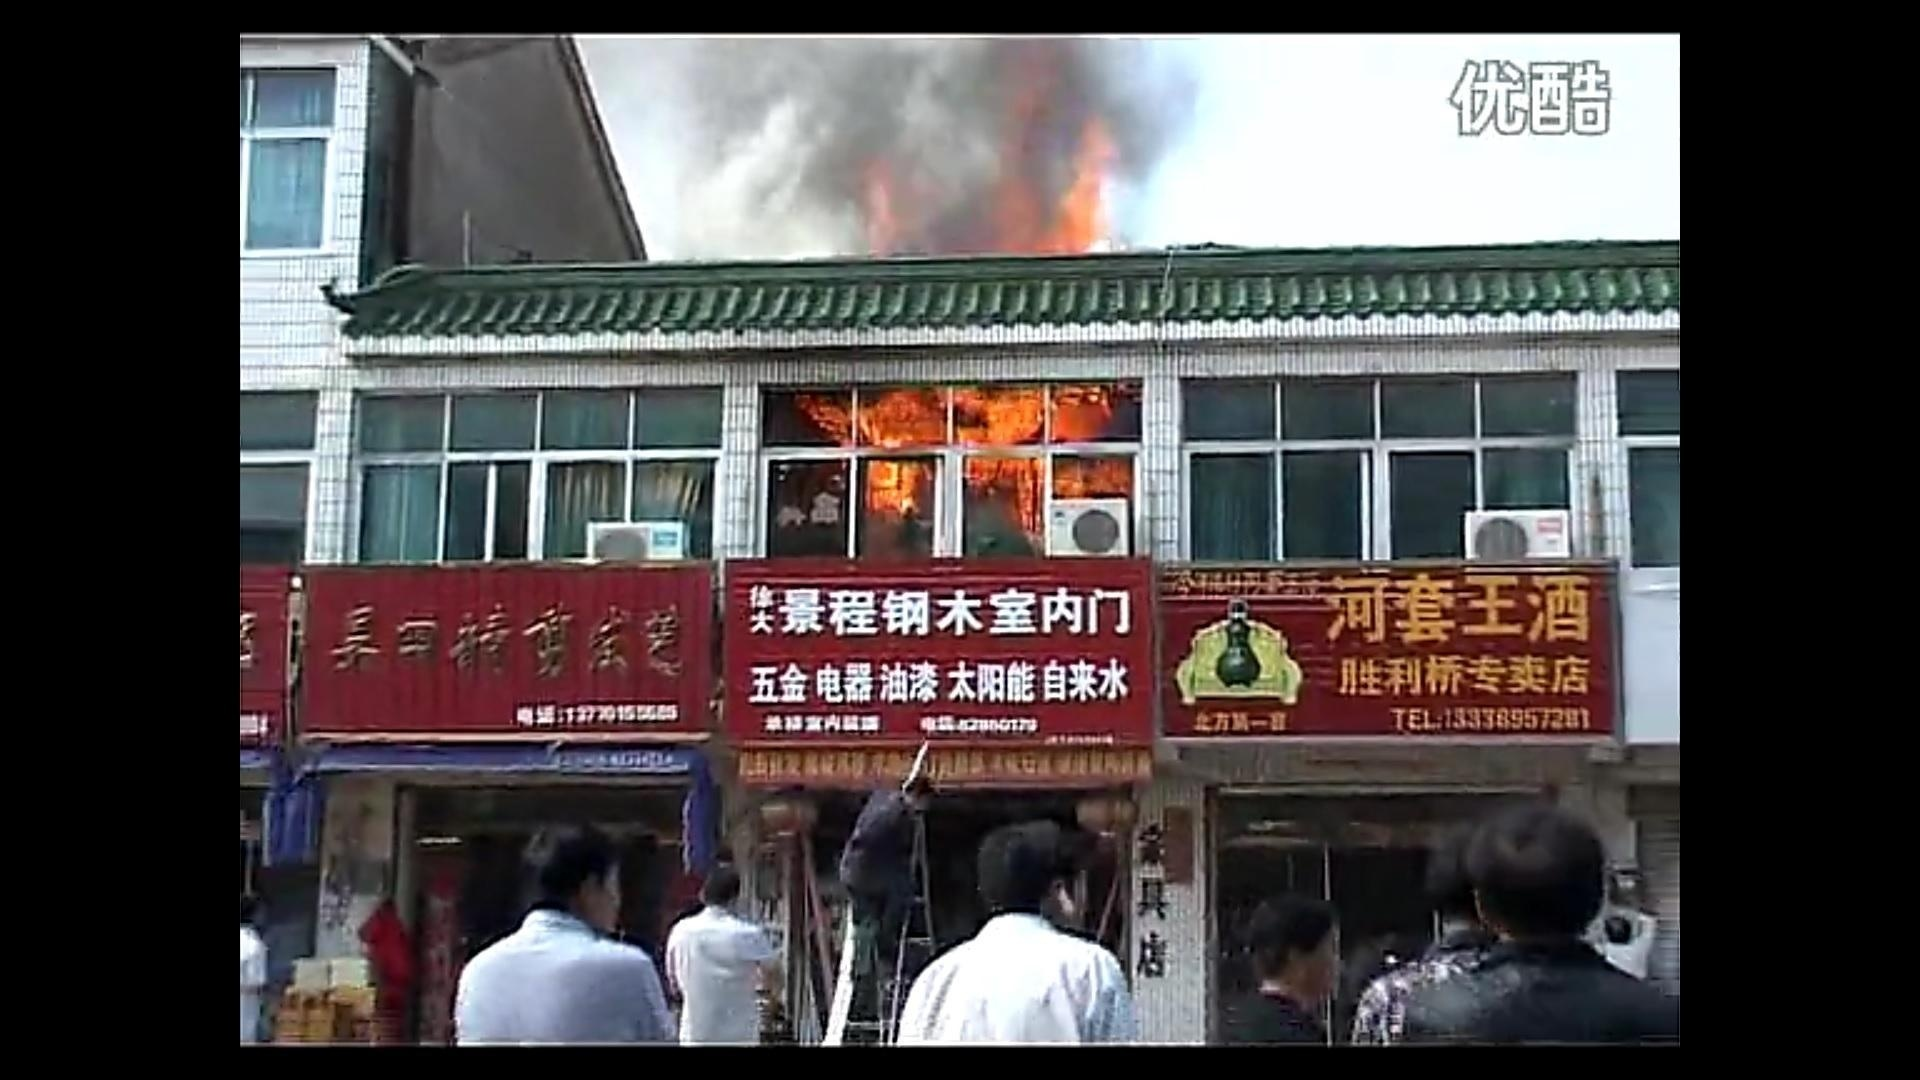fire: (825, 378, 1127, 517), (1038, 129, 1116, 252)
